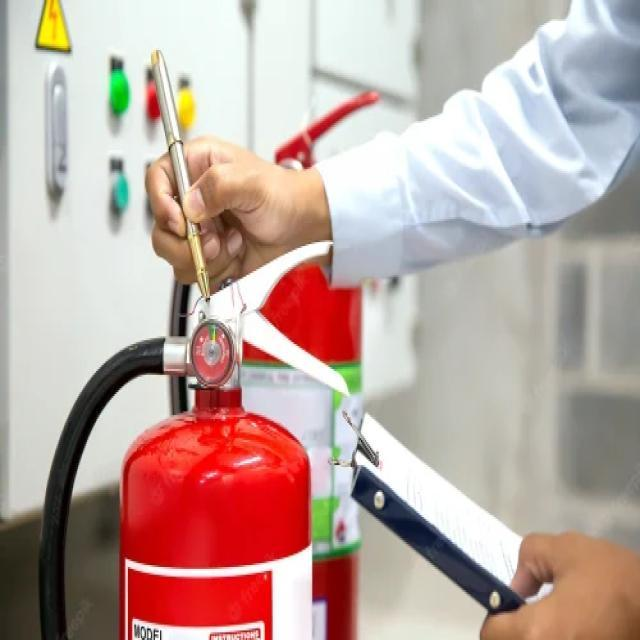pressure gauge: (190, 321, 234, 383)
